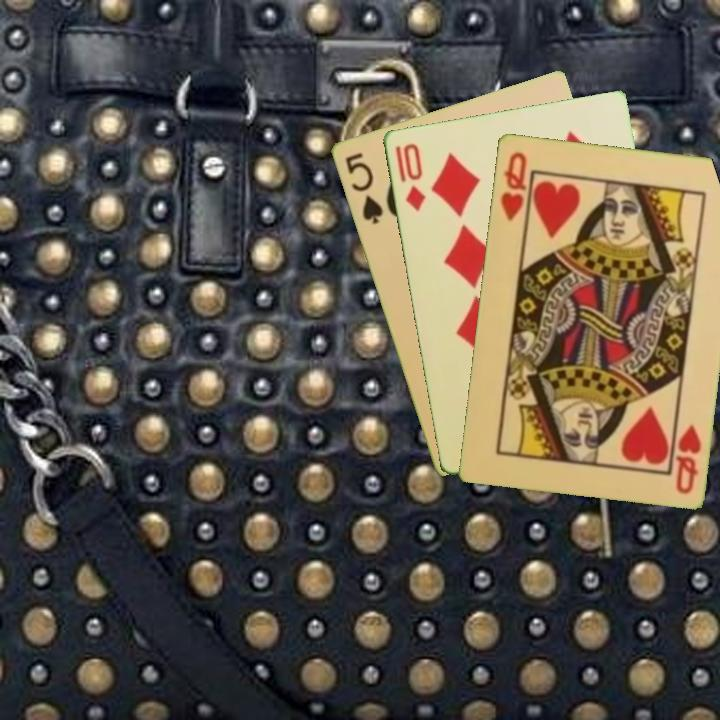10d: (391, 139, 428, 214)
5s: (341, 148, 386, 227)
Qh: (671, 421, 704, 497), (496, 148, 529, 223)
